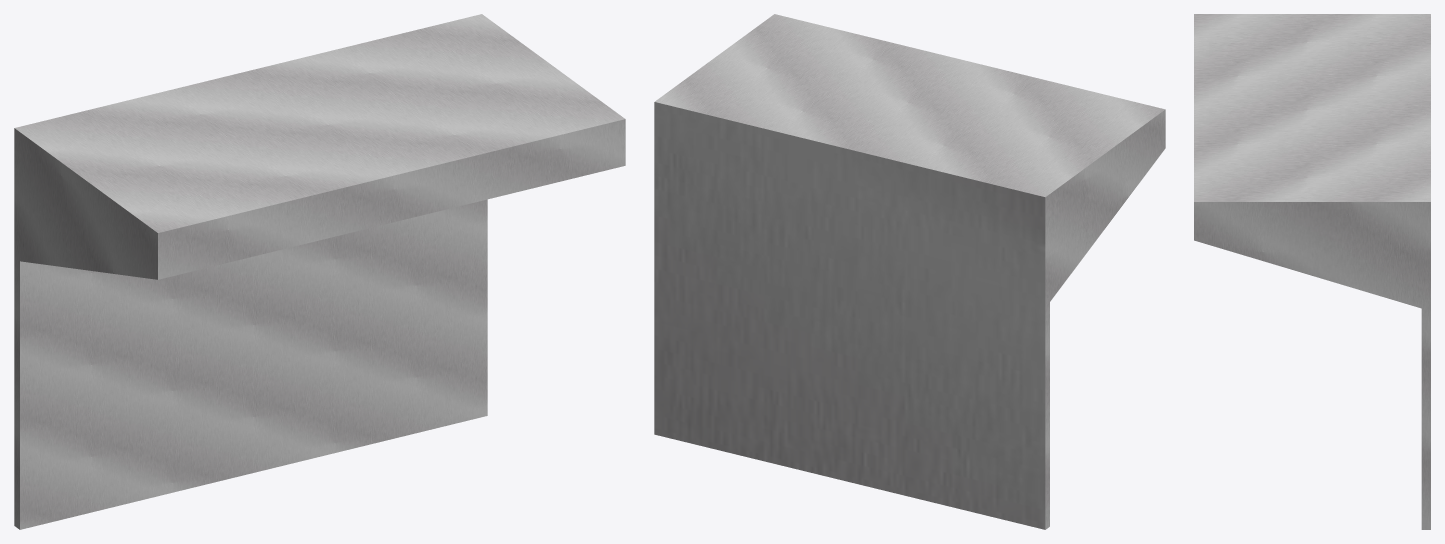
Rendered from Kitchen_Hood_Unwrapped.fbx.
3 renders of one model, left to right at view 1: azimuth 30°, elevation 25°; view 2: azimuth 150°, elevation 25°; view 3: azimuth 270°, elevation 25°, orthographic. The views are drawn at different scales.
Visible parts, largest first — view 1: Hood; view 2: Hood; view 3: Hood.
Part boxes in pixels (bbox=[...]): Hood: bbox=[14, 14, 625, 529]; Hood: bbox=[654, 14, 1165, 529]; Hood: bbox=[1194, 14, 1430, 529].
Bounding box in the file's own units: 243 × 198 × 129.
